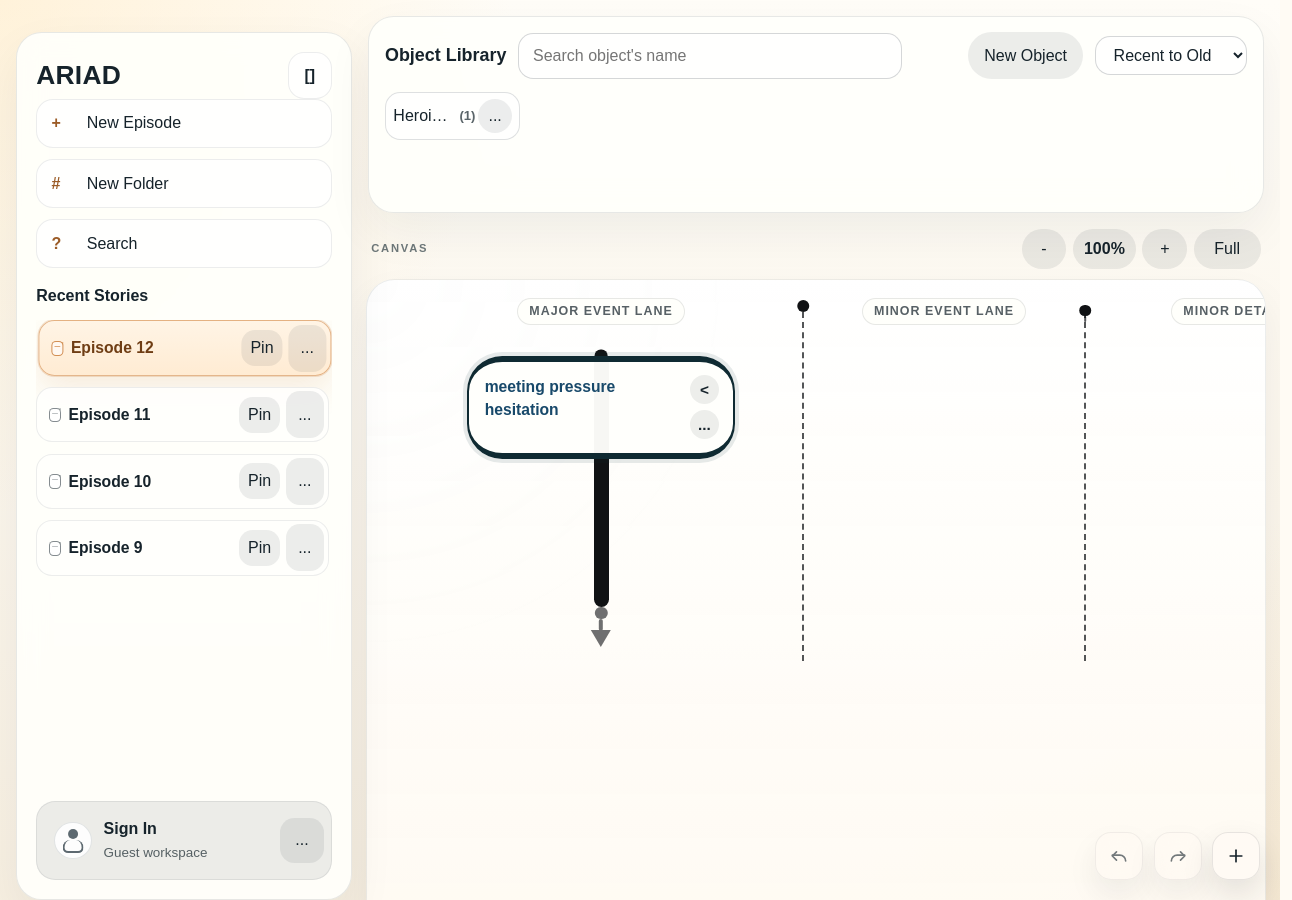
Test: workspace shell recommendation flow › keeps object detail editing available while the canvas is fullscreen
The image size is (1292, 900).
Click the button with aria-label "Enter Fullscreen".
click(1227, 249)  # box 1194,229 -> 1261,269
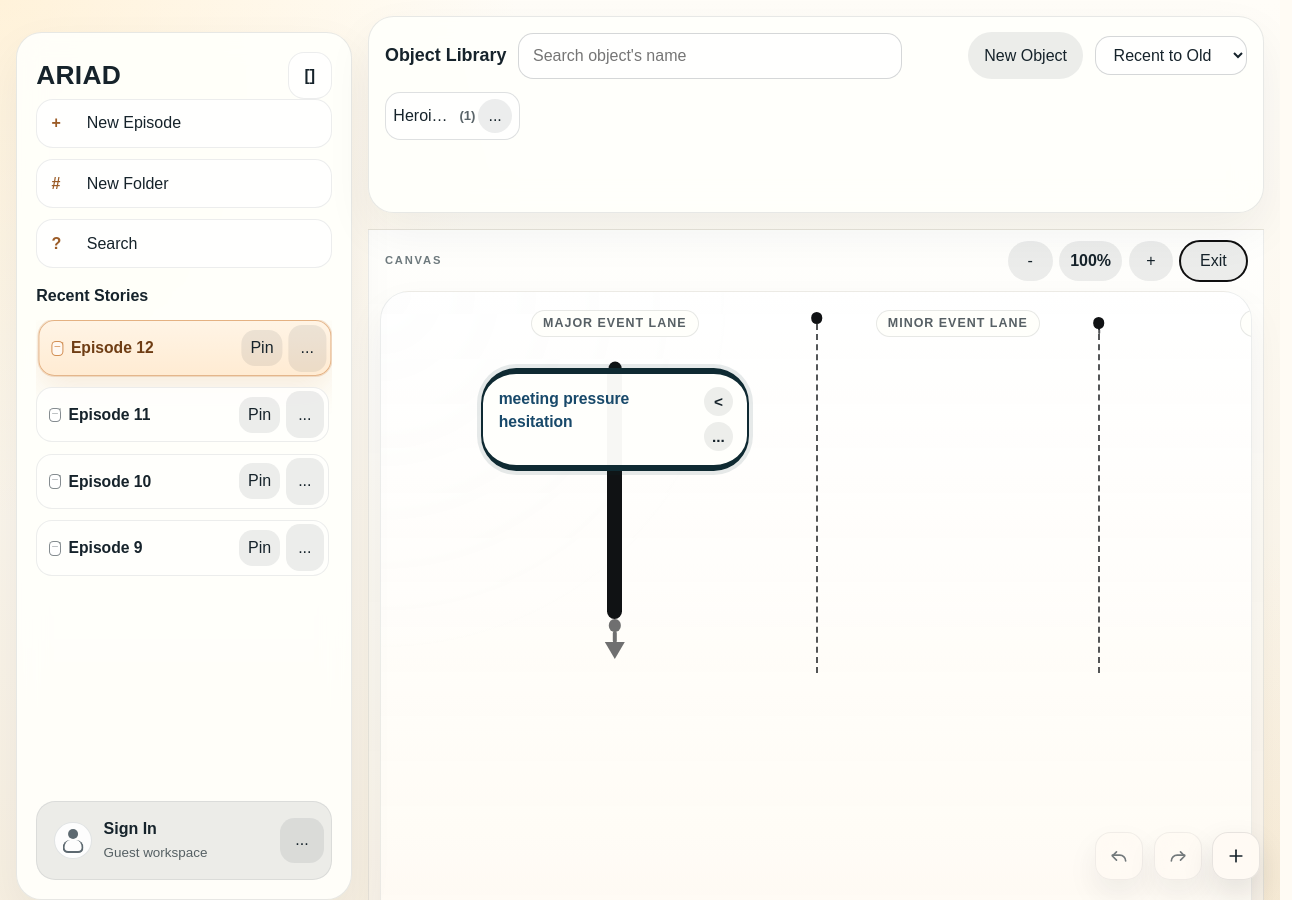
Click the button "Heroine's Mother (1)".
click(434, 116)  # box 393,104 -> 476,128
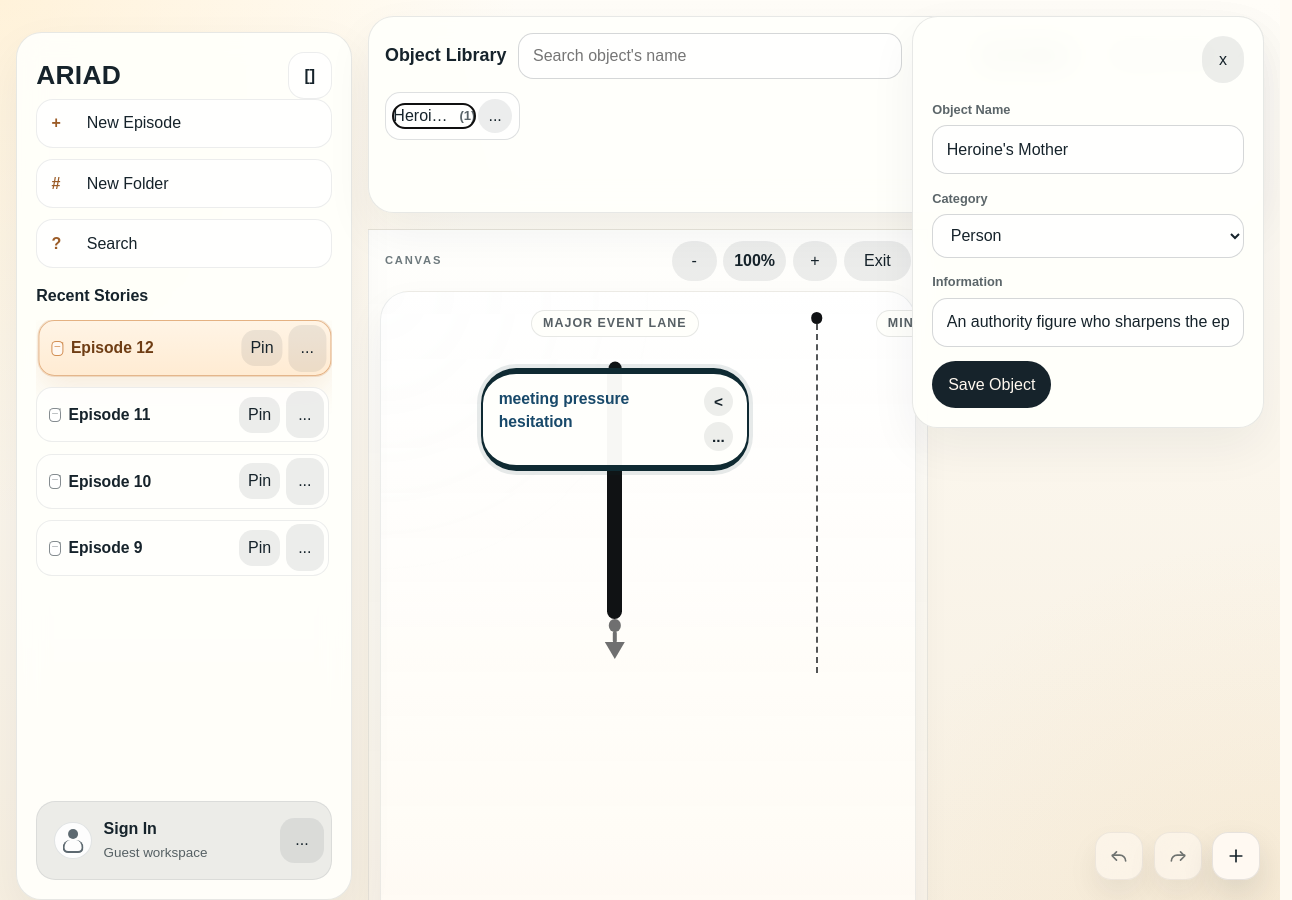
Expected: the form with test id "detail-editor" is shown, 932,100 -> 1244,408
Expected: the button named "Close Details" is shown, 1202,36 -> 1244,83
